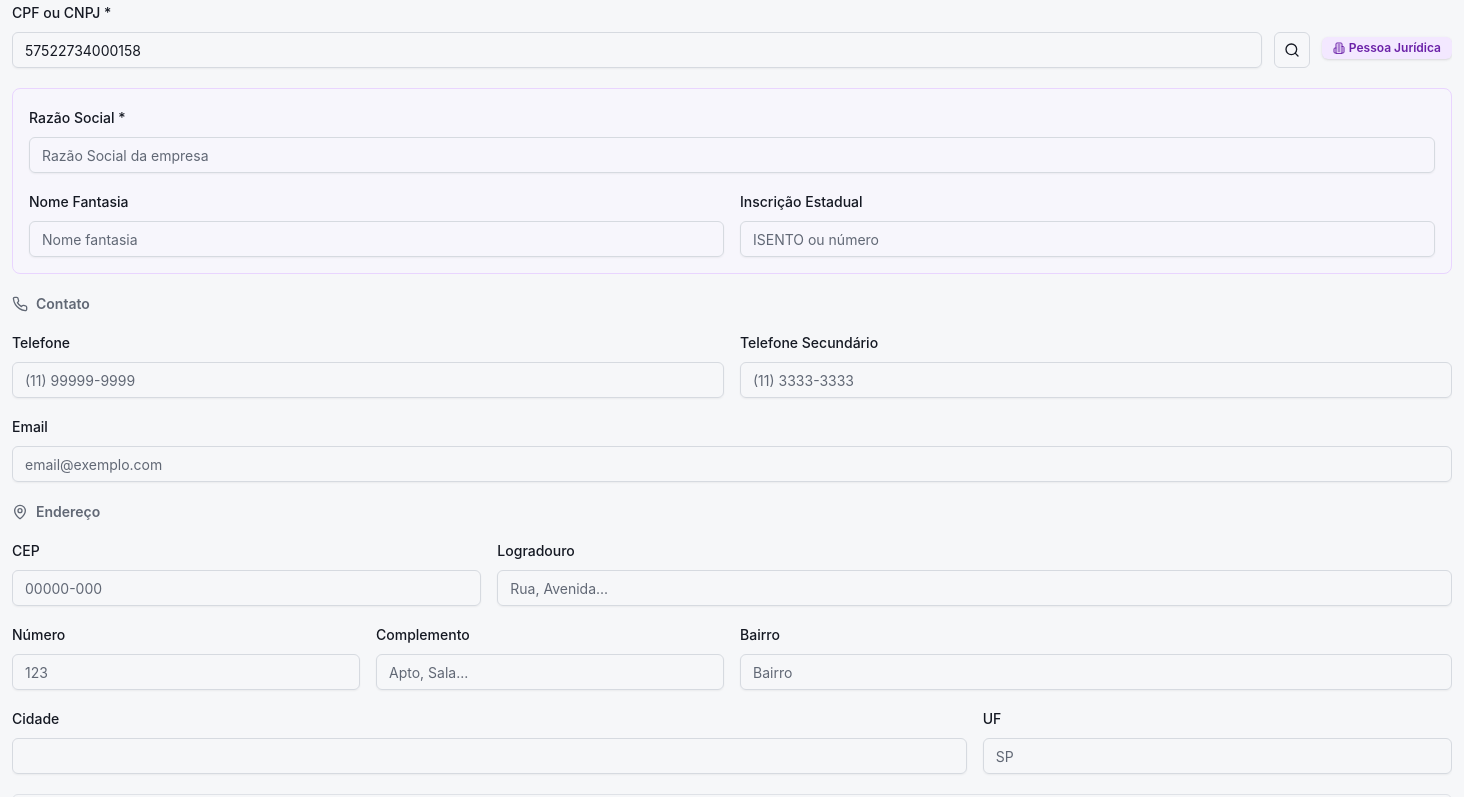
ClienteFormularioCampos — consulta de CNPJ › não dispara salvamento ao consultar
Click the button named "Buscar dados do CNPJ".
click(1292, 50)  # box x1=1274 y1=32 x2=1310 y2=68
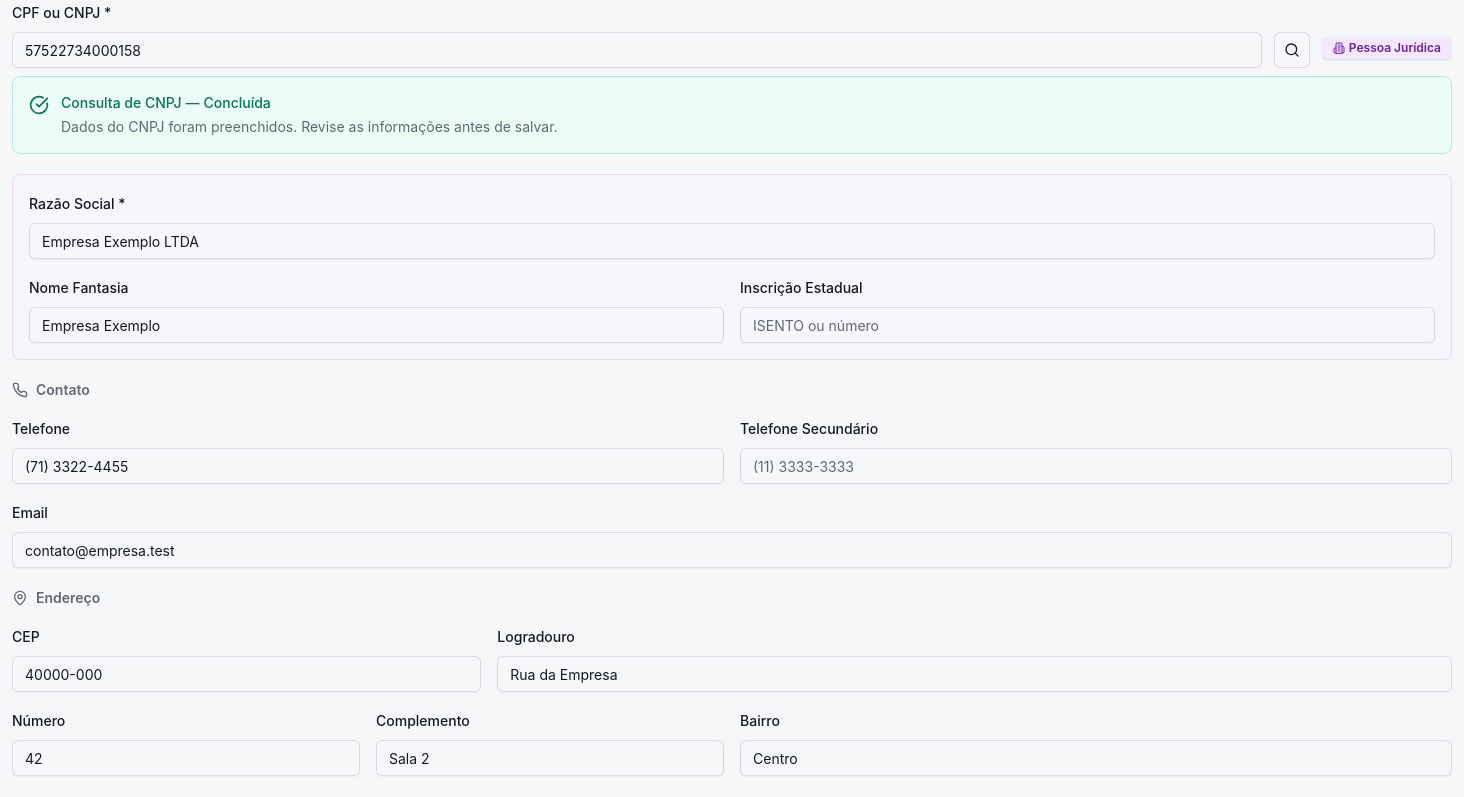
expect the text "Dados do CNPJ foram preenchidos. Revise as informações antes de salvar." is shown: met, box x1=61 y1=118 x2=558 y2=135
